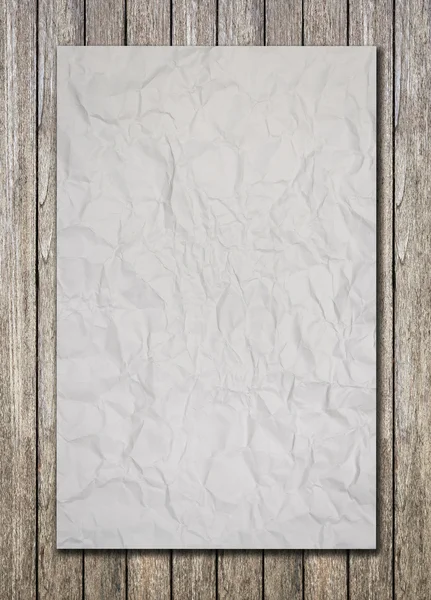page: (59, 47, 375, 545)
